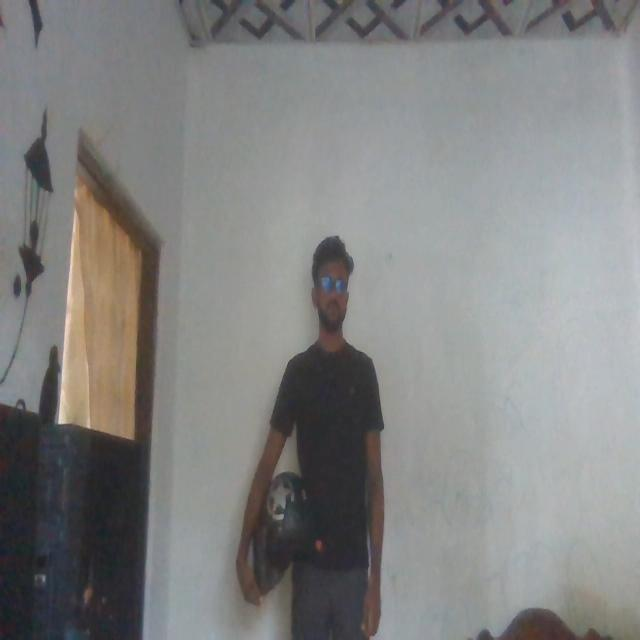Person: (265, 239, 390, 640)
